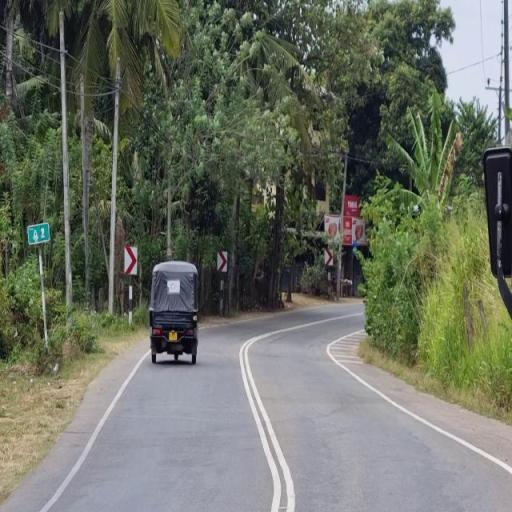double_white_line: (239, 328, 291, 510)
